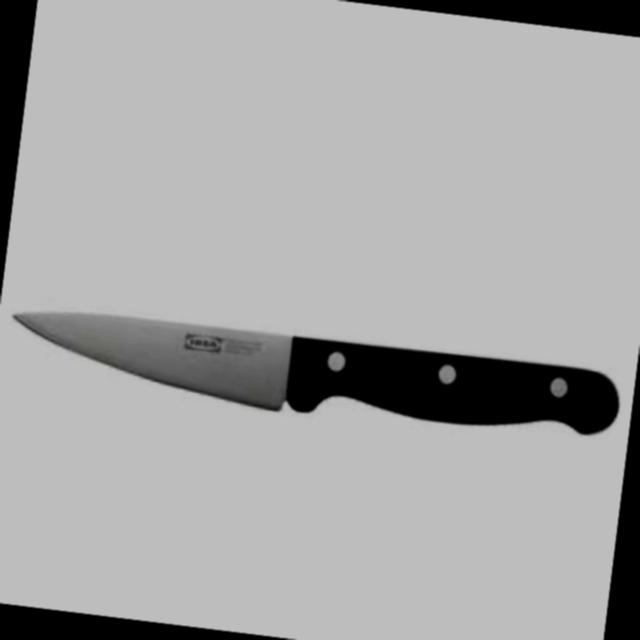knife: (0, 266, 639, 500)
